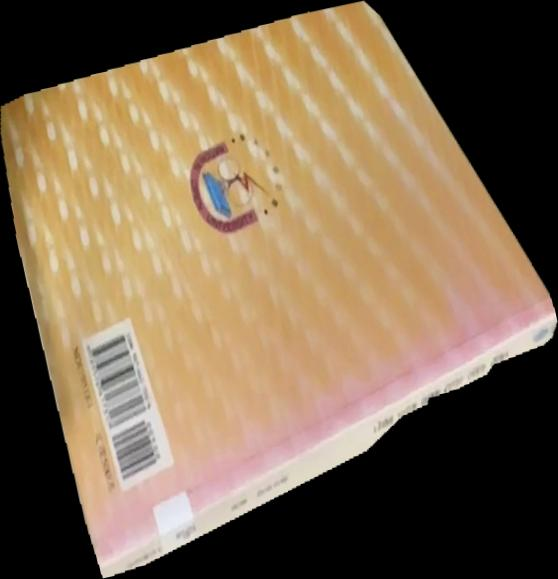flat: (1, 1, 558, 579)
